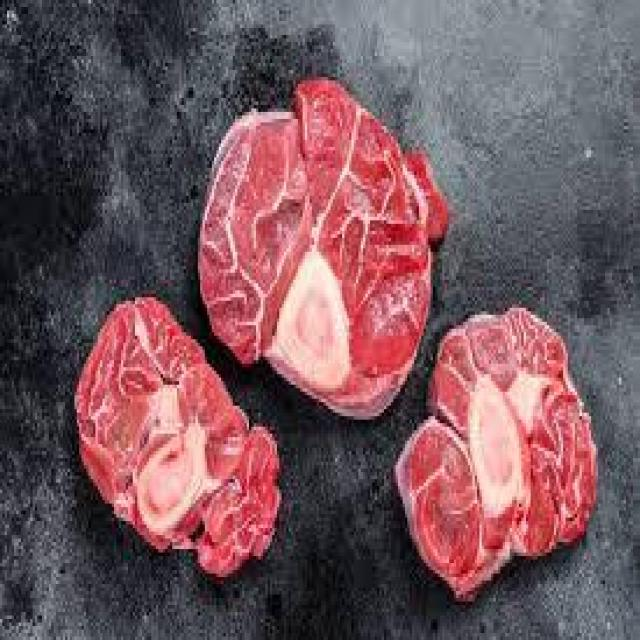beef: (204, 72, 452, 397)
